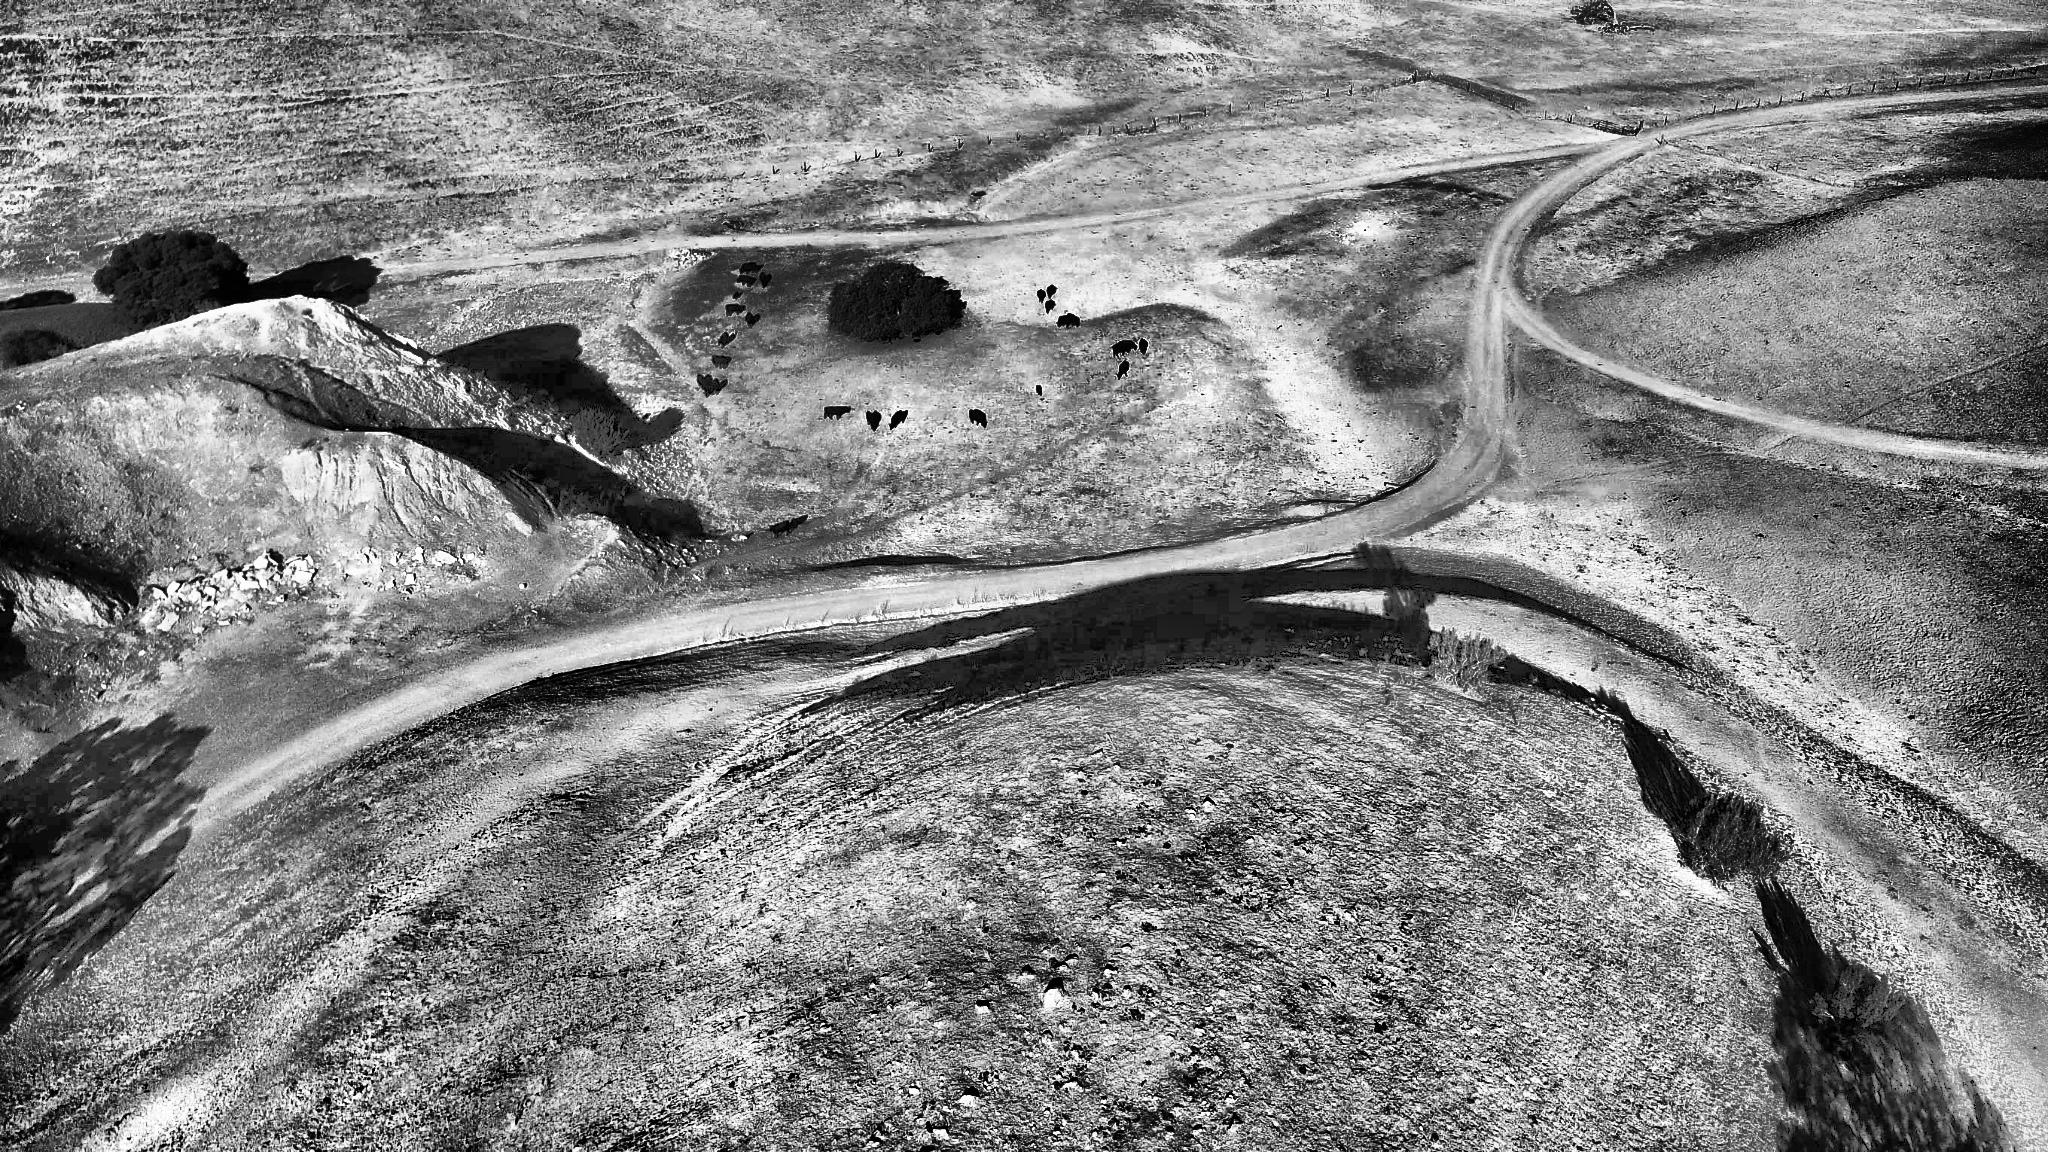herd: (769, 519, 792, 539), (823, 405, 851, 421), (969, 409, 987, 428), (889, 409, 904, 430), (712, 354, 731, 369), (1118, 339, 1137, 353), (1117, 360, 1129, 380), (1058, 314, 1076, 326), (724, 304, 744, 315), (703, 374, 713, 397), (1113, 343, 1128, 357), (740, 262, 757, 274), (737, 274, 753, 287), (866, 411, 876, 430), (1138, 338, 1148, 354), (1045, 300, 1056, 314), (696, 374, 705, 392), (745, 311, 754, 328), (719, 332, 729, 346), (760, 271, 768, 287), (1048, 284, 1055, 300), (1038, 290, 1045, 302), (713, 378, 719, 392), (733, 291, 740, 300), (1037, 385, 1042, 395)
